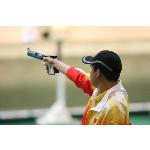Pistol: (26, 46, 60, 76)
